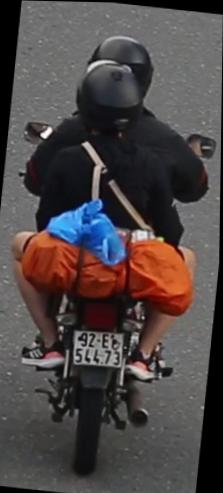LP: (65, 319, 130, 381)
helmet: (70, 57, 147, 139), (86, 26, 161, 86)
